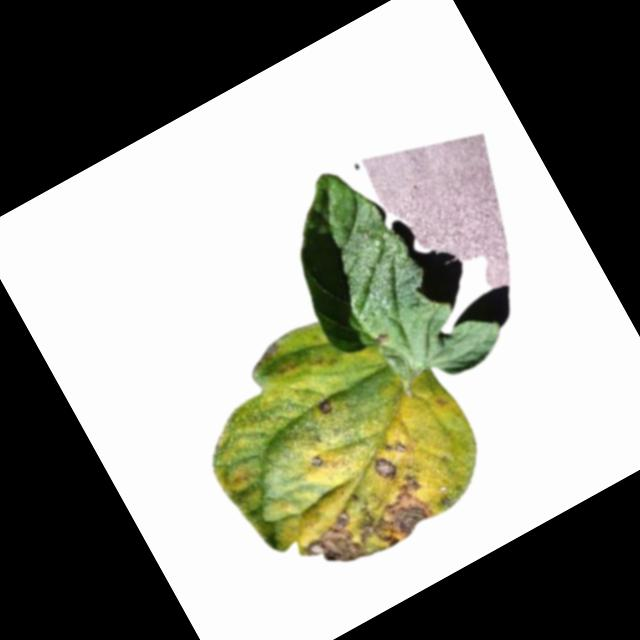Early_blight: (293, 469, 445, 588), (380, 434, 410, 462), (376, 459, 401, 485), (317, 398, 337, 417), (373, 329, 391, 347), (310, 456, 325, 472)
